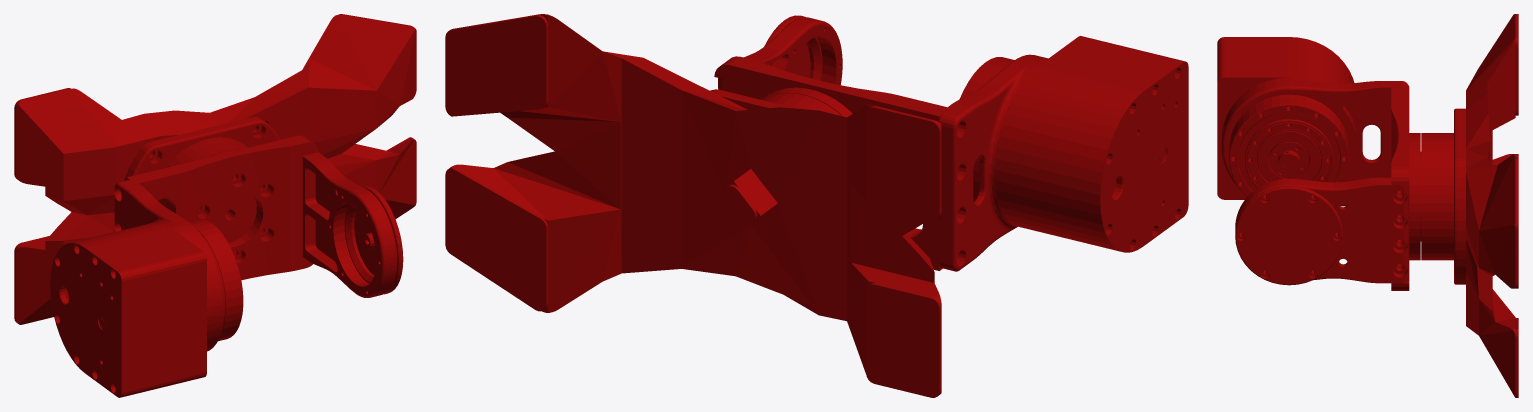
File: R_Ankle_Roll.obj
3 renders of one model, left to right at view 1: azimuth 30°, elevation 25°; view 2: azimuth 150°, elevation 25°; view 3: azimuth 270°, elevation 25°, orthographic. The views are drawn at different scales.
Parts seen in each view (by area): view 1: R_Ankle_Roll; view 2: R_Ankle_Roll; view 3: R_Ankle_Roll.
Boxes of the visible parts, x1,y1,x2,y2 form: R_Ankle_Roll: [14, 14, 416, 397]; R_Ankle_Roll: [445, 14, 1188, 397]; R_Ankle_Roll: [1217, 14, 1518, 397].
Size of the model in its own units: 0.3362 by 0.1733 by 0.201.
